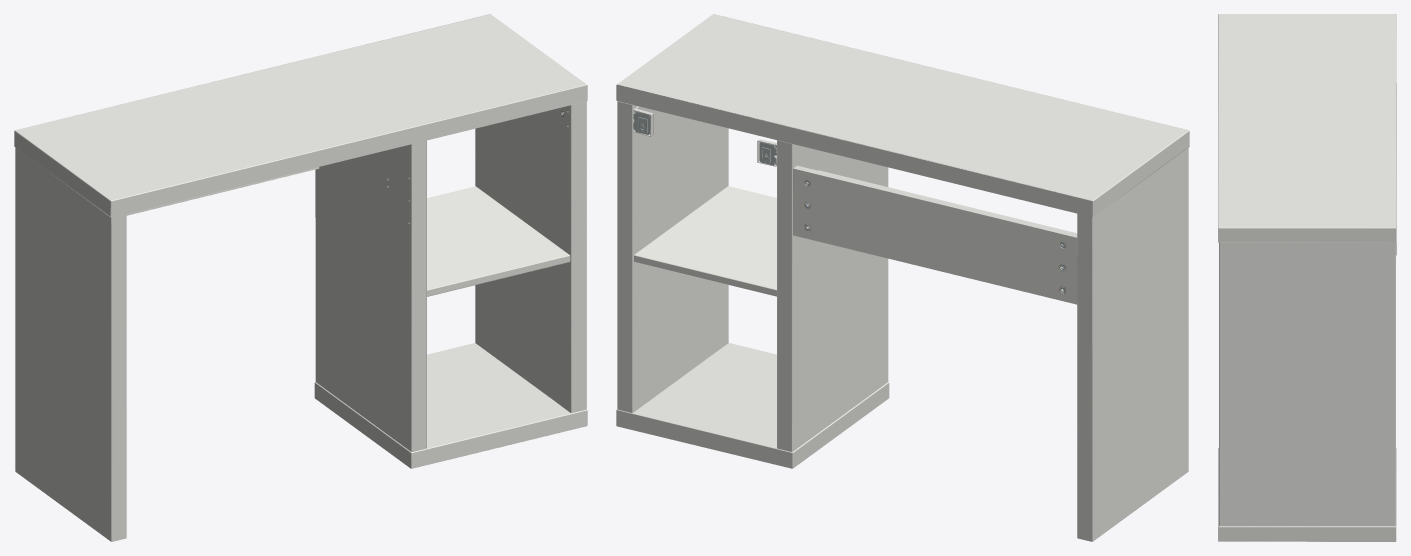
File: LB-BR-DESK-01.glb
3 renders of one model, left to right at view 1: azimuth 30°, elevation 25°; view 2: azimuth 150°, elevation 25°; view 3: azimuth 270°, elevation 25°, orthographic. The views are drawn at different scales.
Parts seen in each view (by area): view 1: ASY_ART_30582445_S01_NV01; view 2: ASY_ART_30582445_S01_NV01; view 3: ASY_ART_30582445_S01_NV01.
Boxes of the visible parts, x1=… form: ASY_ART_30582445_S01_NV01: x1=14, y1=14, x2=587, y2=541; ASY_ART_30582445_S01_NV01: x1=616, y1=14, x2=1189, y2=541; ASY_ART_30582445_S01_NV01: x1=1218, y1=14, x2=1396, y2=541.
Size of the model in its own units: 1.11 by 0.7652 by 0.3924.
Materials: 1 (1 with a texture image).
